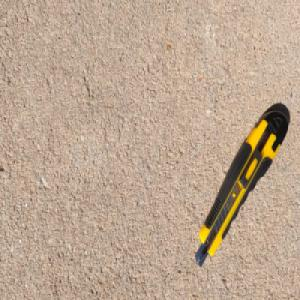Cutter: (194, 108, 288, 268)
